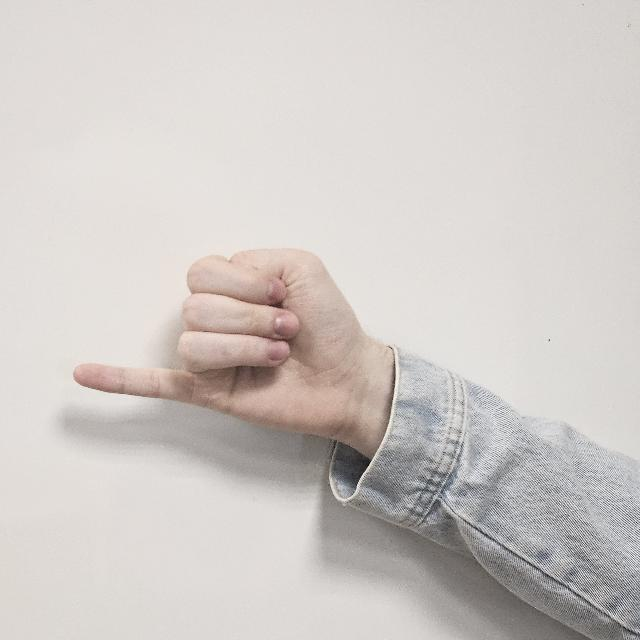Esquerda: (62, 193, 378, 453)
